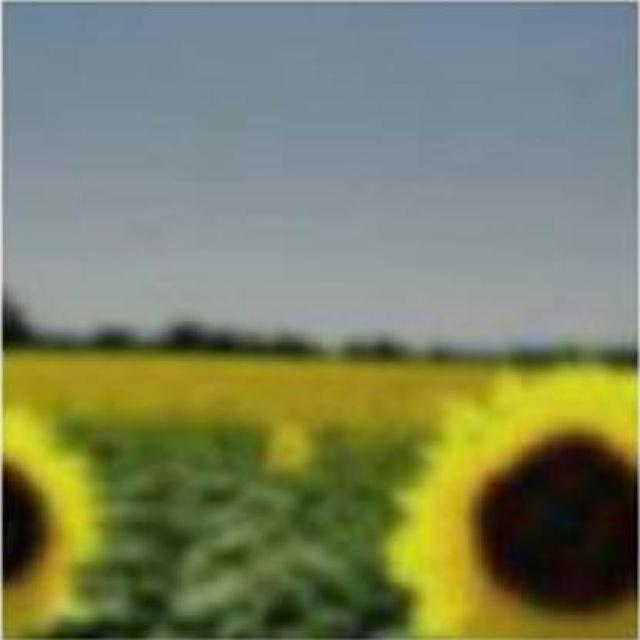sunflower: (380, 358, 640, 640)
